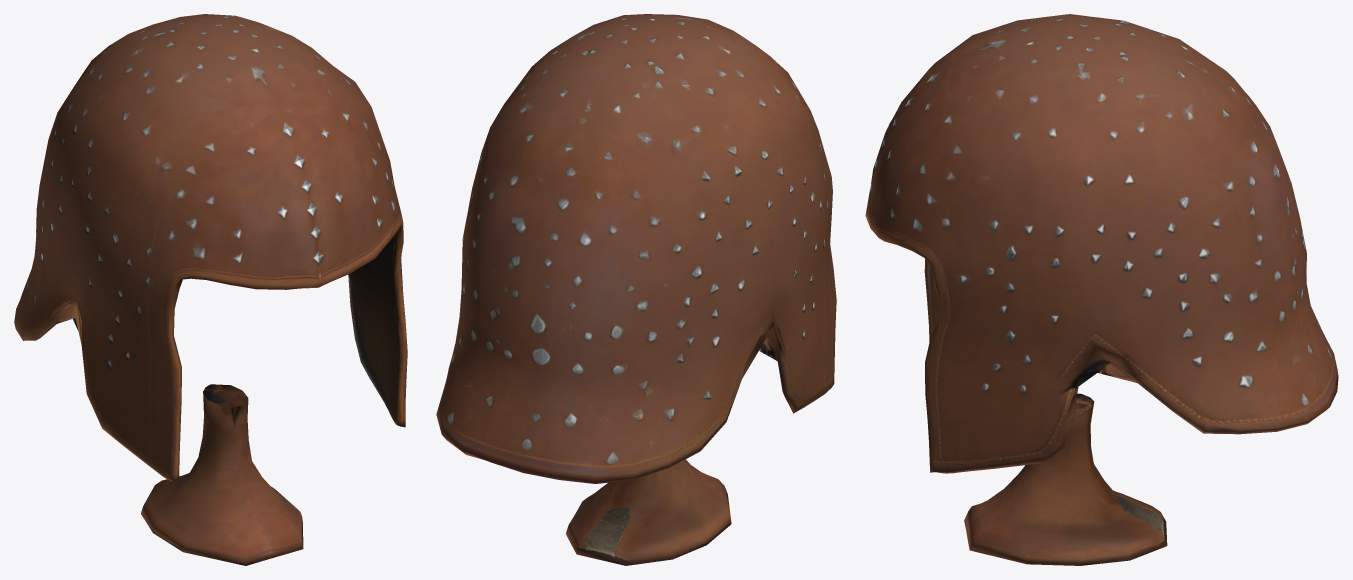
The model's file is helmet-leather-studded-leather.glb.
The picture shows the model from 3 angles, left to right: view 1: azimuth 30°, elevation 25°; view 2: azimuth 150°, elevation 25°; view 3: azimuth 270°, elevation 25°; orthographic projection. The views are drawn at different scales.
Size of the model in its own units: 1.2 by 1.99 by 1.69.
1 material, 1 textured.
